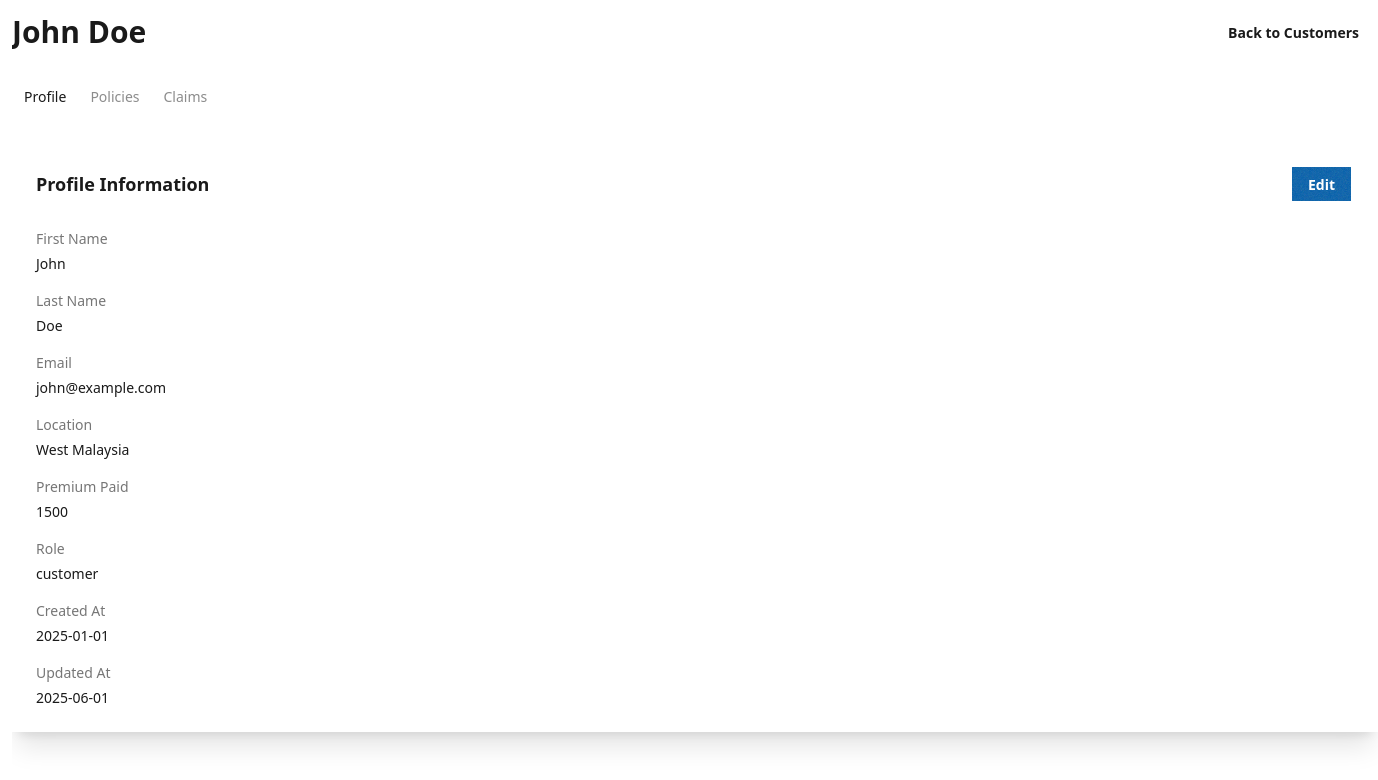
Test: Admin Customer Detail/Edit Page › shows "Edit" button that toggles edit mode
The width and height of the screenshot is (1378, 780).
Click the button "Edit". click: x=1321, y=184
box: [1289, 164, 1354, 204]
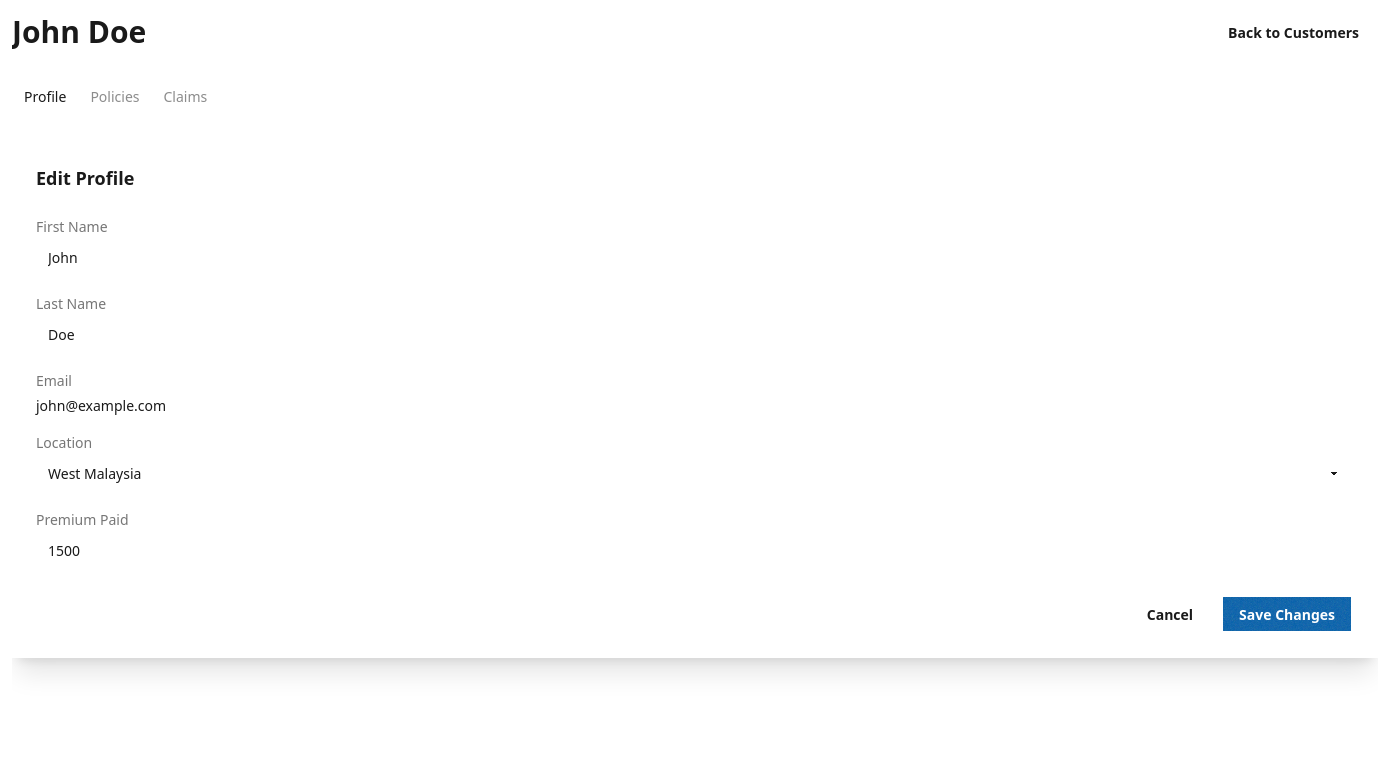
Result: the field showing "John" below "First Name" is shown at [36, 237, 1354, 277]
